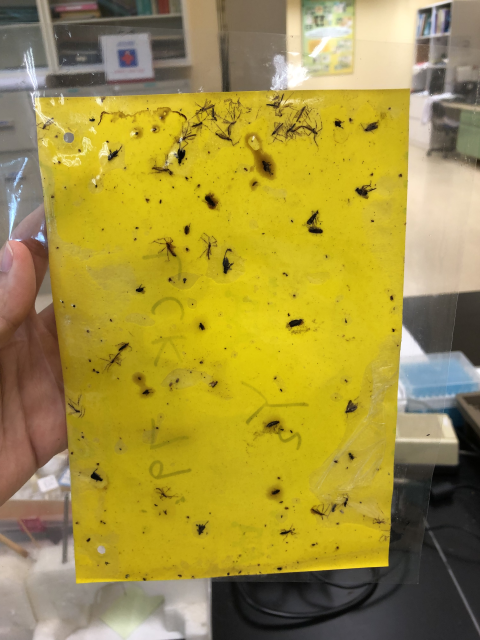DBM: (343, 397, 359, 417), (263, 416, 283, 432)
